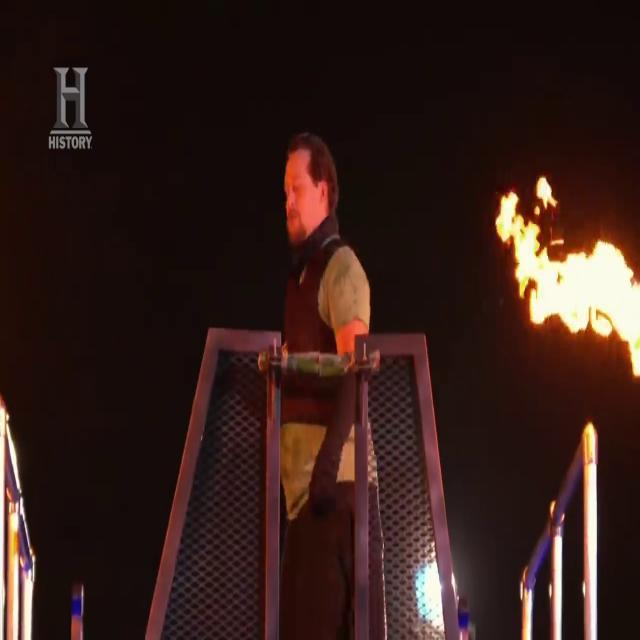Fire: (527, 232, 632, 358)
